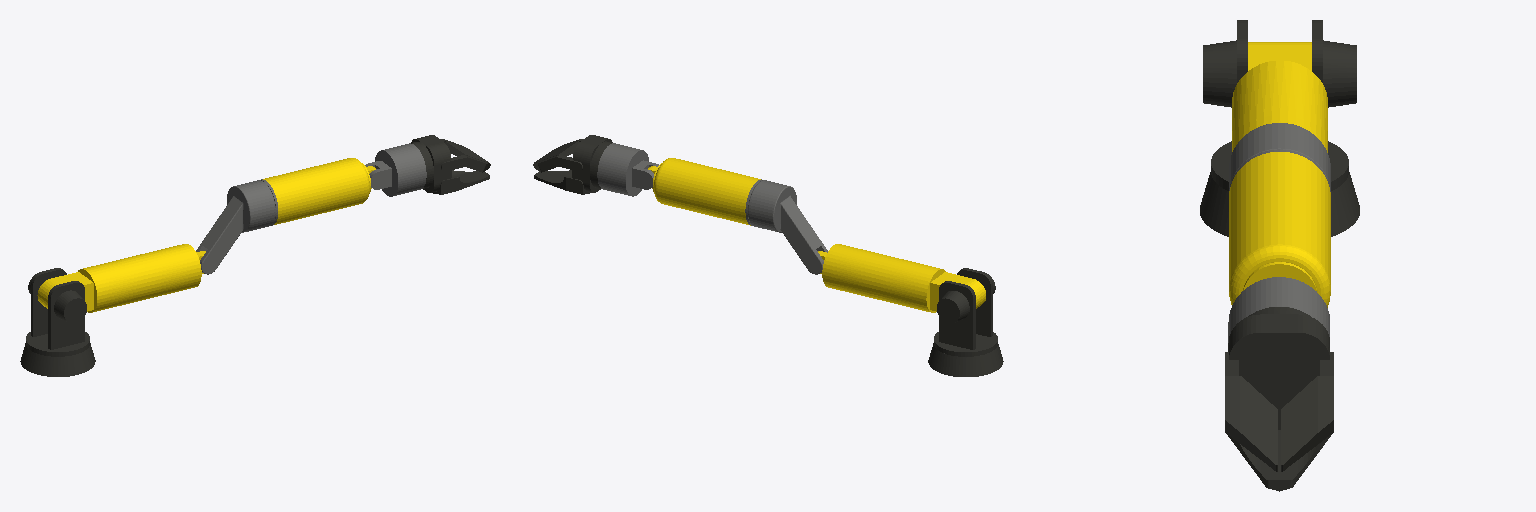
robot.urdf — Spot_Arm_Export:
<?xml version="1.0" ?>
<!-- =================================================================================== -->
<!-- |    This document was autogenerated by xacro from Spot_Arm_Export.xacro          | -->
<!-- |    EDITING THIS FILE BY HAND IS NOT RECOMMENDED                                 | -->
<!-- =================================================================================== -->
<robot name="Spot_Arm_Export" xmlns:xacro="http://www.ros.org/wiki/xacro">
  <material name="yellow">
    <color rgba="0.992 0.8705 0.08235 1.000"/>
  </material>
  <material name="black">
    <color rgba="0.254 0.254 0.235 1.000"/>
  </material>
  <material name="silver">
    <color rgba="0.4627 0.4627 0.4549 1.000"/>
  </material>
  <transmission name="Rev7_tran">
    <type>transmission_interface/SimpleTransmission</type>
    <joint name="Rev7">
      <hardwareInterface>hardware_interface/EffortJointInterface</hardwareInterface>
    </joint>
    <actuator name="Rev7_actr">
      <hardwareInterface>hardware_interface/EffortJointInterface</hardwareInterface>
      <mechanicalReduction>1</mechanicalReduction>
    </actuator>
  </transmission>
  <transmission name="Rev8_tran">
    <type>transmission_interface/SimpleTransmission</type>
    <joint name="Rev8">
      <hardwareInterface>hardware_interface/EffortJointInterface</hardwareInterface>
    </joint>
    <actuator name="Rev8_actr">
      <hardwareInterface>hardware_interface/EffortJointInterface</hardwareInterface>
      <mechanicalReduction>1</mechanicalReduction>
    </actuator>
  </transmission>
  <transmission name="Rev9_tran">
    <type>transmission_interface/SimpleTransmission</type>
    <joint name="Rev9">
      <hardwareInterface>hardware_interface/EffortJointInterface</hardwareInterface>
    </joint>
    <actuator name="Rev9_actr">
      <hardwareInterface>hardware_interface/EffortJointInterface</hardwareInterface>
      <mechanicalReduction>1</mechanicalReduction>
    </actuator>
  </transmission>
  <transmission name="Rev10_tran">
    <type>transmission_interface/SimpleTransmission</type>
    <joint name="Rev10">
      <hardwareInterface>hardware_interface/EffortJointInterface</hardwareInterface>
    </joint>
    <actuator name="Rev10_actr">
      <hardwareInterface>hardware_interface/EffortJointInterface</hardwareInterface>
      <mechanicalReduction>1</mechanicalReduction>
    </actuator>
  </transmission>
  <transmission name="Slider11_tran">
    <type>transmission_interface/SimpleTransmission</type>
    <joint name="Slider11">
      <hardwareInterface>hardware_interface/EffortJointInterface</hardwareInterface>
    </joint>
    <actuator name="Slider11_actr">
      <hardwareInterface>hardware_interface/EffortJointInterface</hardwareInterface>
      <mechanicalReduction>1</mechanicalReduction>
    </actuator>
  </transmission>
  <transmission name="Rev14_tran">
    <type>transmission_interface/SimpleTransmission</type>
    <joint name="Rev14">
      <hardwareInterface>hardware_interface/EffortJointInterface</hardwareInterface>
    </joint>
    <actuator name="Rev14_actr">
      <hardwareInterface>hardware_interface/EffortJointInterface</hardwareInterface>
      <mechanicalReduction>1</mechanicalReduction>
    </actuator>
  </transmission>
  <transmission name="Rev15_tran">
    <type>transmission_interface/SimpleTransmission</type>
    <joint name="Rev15">
      <hardwareInterface>hardware_interface/EffortJointInterface</hardwareInterface>
    </joint>
    <actuator name="Rev15_actr">
      <hardwareInterface>hardware_interface/EffortJointInterface</hardwareInterface>
      <mechanicalReduction>1</mechanicalReduction>
    </actuator>
  </transmission>
  <gazebo>
    <plugin filename="libgazebo_ros_control.so" name="control"/>
  </gazebo>
  <gazebo reference="base_link">
    <material>Gazebo/Silver</material>
    <mu1>0.2</mu1>
    <mu2>0.2</mu2>
    <selfCollide>true</selfCollide>
    <gravity>true</gravity>
  </gazebo>
  <gazebo reference="link1_1">
    <material>Gazebo/Silver</material>
    <mu1>0.2</mu1>
    <mu2>0.2</mu2>
    <selfCollide>true</selfCollide>
  </gazebo>
  <gazebo reference="link2__1">
    <material>Gazebo/Silver</material>
    <mu1>0.2</mu1>
    <mu2>0.2</mu2>
    <selfCollide>true</selfCollide>
  </gazebo>
  <gazebo reference="link3_1">
    <material>Gazebo/Silver</material>
    <mu1>0.2</mu1>
    <mu2>0.2</mu2>
    <selfCollide>true</selfCollide>
  </gazebo>
  <gazebo reference="link4_1">
    <material>Gazebo/Silver</material>
    <mu1>0.2</mu1>
    <mu2>0.2</mu2>
    <selfCollide>true</selfCollide>
  </gazebo>
  <gazebo reference="link5_1">
    <material>Gazebo/Silver</material>
    <mu1>0.2</mu1>
    <mu2>0.2</mu2>
    <selfCollide>true</selfCollide>
  </gazebo>
  <gazebo reference="link6_1">
    <material>Gazebo/Silver</material>
    <mu1>0.2</mu1>
    <mu2>0.2</mu2>
    <selfCollide>true</selfCollide>
  </gazebo>
  <gazebo reference="link7_1">
    <material>Gazebo/Silver</material>
    <mu1>0.2</mu1>
    <mu2>0.2</mu2>
    <selfCollide>true</selfCollide>
  </gazebo>
  <link name="base_link">
    <inertial>
      <origin rpy="0 0 0" xyz="1.4893738513430887e-17 1.4893738513430887e-17 0.018976000606365378"/>
      <mass value="1.6720303943376955"/>
      <inertia ixx="0.002269" ixy="0.0" ixz="-0.0" iyy="0.002269" iyz="-0.0" izz="0.004095"/>
    </inertial>
    <visual>
      <origin rpy="0 0 0" xyz="0 0 0"/>
      <geometry>
        <mesh filename="package://Spot_Arm_Export_description/meshes/base_link.stl" scale="0.001 0.001 0.001"/>
      </geometry>
      <material name="black"/>
    </visual>
    <collision>
      <origin rpy="0 0 0" xyz="0 0 0"/>
      <geometry>
        <mesh filename="package://Spot_Arm_Export_description/meshes/base_link.stl" scale="0.001 0.001 0.001"/>
      </geometry>
    </collision>
  </link>
  <link name="link1_1">
    <inertial>
      <origin rpy="0 0 0" xyz="-0.00010166140320390767 -0.002439812837878551 0.06408235101807577"/>
      <mass value="1.323325671789871"/>
      <inertia ixx="0.005142" ixy="-0.0" ixz="5e-06" iyy="0.003539" iyz="0.000116" izz="0.003127"/>
    </inertial>
    <visual>
      <origin rpy="0 0 0" xyz="-0.0 -0.0 -0.04"/>
      <geometry>
        <mesh filename="package://Spot_Arm_Export_description/meshes/link1_1.stl" scale="0.001 0.001 0.001"/>
      </geometry>
      <material name="black"/>
    </visual>
    <collision>
      <origin rpy="0 0 0" xyz="-0.0 -0.0 -0.04"/>
      <geometry>
        <mesh filename="package://Spot_Arm_Export_description/meshes/link1_1.stl" scale="0.001 0.001 0.001"/>
      </geometry>
    </collision>
  </link>
  <link name="link2__1">
    <inertial>
      <origin rpy="0 0 0" xyz="0.16558407457674612 -0.03000000000000001 2.9449114878343785e-06"/>
      <mass value="4.994414599306621"/>
      <inertia ixx="0.004693" ixy="-0.0" ixz="-2e-06" iyy="0.041317" iyz="-0.0" izz="0.041288"/>
    </inertial>
    <visual>
      <origin rpy="0 0 0" xyz="-0.0 -0.03 -0.14"/>
      <geometry>
        <mesh filename="package://Spot_Arm_Export_description/meshes/link2__1.stl" scale="0.001 0.001 0.001"/>
      </geometry>
      <material name="yellow"/>
    </visual>
    <collision>
      <origin rpy="0 0 0" xyz="-0.0 -0.03 -0.14"/>
      <geometry>
        <mesh filename="package://Spot_Arm_Export_description/meshes/link2__1.stl" scale="0.001 0.001 0.001"/>
      </geometry>
    </collision>
  </link>
  <link name="link3_1">
    <inertial>
      <origin rpy="0 0 0" xyz="0.07808838335862711 -0.010000000424296312 0.07857423931894233"/>
      <mass value="1.3431854176170634"/>
      <inertia ixx="0.002456" ixy="-0.0" ixz="-0.001302" iyy="0.003583" iyz="-0.0" izz="0.002394"/>
    </inertial>
    <visual>
      <origin rpy="0 0 0" xyz="-0.3385 -0.01 -0.140137"/>
      <geometry>
        <mesh filename="package://Spot_Arm_Export_description/meshes/link3_1.stl" scale="0.001 0.001 0.001"/>
      </geometry>
      <material name="silver"/>
    </visual>
    <collision>
      <origin rpy="0 0 0" xyz="-0.3385 -0.01 -0.140137"/>
      <geometry>
        <mesh filename="package://Spot_Arm_Export_description/meshes/link3_1.stl" scale="0.001 0.001 0.001"/>
      </geometry>
    </collision>
  </link>
  <link name="link4_1">
    <inertial>
      <origin rpy="0 0 0" xyz="0.09116530618238194 -4.470348317907382e-10 1.6517662931869737e-08"/>
      <mass value="1.9937738359972355"/>
      <inertia ixx="0.001271" ixy="-0.0" ixz="-0.0" iyy="0.006352" iyz="0.0" izz="0.006352"/>
    </inertial>
    <visual>
      <origin rpy="0 0 0" xyz="-0.4455 0.0 -0.237477"/>
      <geometry>
        <mesh filename="package://Spot_Arm_Export_description/meshes/link4_1.stl" scale="0.001 0.001 0.001"/>
      </geometry>
      <material name="silver"/>
    </visual>
    <collision>
      <origin rpy="0 0 0" xyz="-0.4455 0.0 -0.237477"/>
      <geometry>
        <mesh filename="package://Spot_Arm_Export_description/meshes/link4_1.stl" scale="0.001 0.001 0.001"/>
      </geometry>
    </collision>
  </link>
  <link name="link5_1">
    <inertial>
      <origin rpy="0 0 0" xyz="0.11485690332465609 -4.470348257432113e-10 1.6517662876358585e-08"/>
      <mass value="2.025824700134457"/>
      <inertia ixx="0.003336" ixy="-0.0" ixz="-0.0" iyy="0.010798" iyz="0.0" izz="0.010792"/>
    </inertial>
    <visual>
      <origin rpy="0 0 0" xyz="-0.4805 0.0 -0.237477"/>
      <geometry>
        <mesh filename="package://Spot_Arm_Export_description/meshes/link5_1.stl" scale="0.001 0.001 0.001"/>
      </geometry>
      <material name="yellow"/>
    </visual>
    <collision>
      <origin rpy="0 0 0" xyz="-0.4805 0.0 -0.237477"/>
      <geometry>
        <mesh filename="package://Spot_Arm_Export_description/meshes/link5_1.stl" scale="0.001 0.001 0.001"/>
      </geometry>
    </collision>
  </link>
  <link name="link6_1">
    <inertial>
      <origin rpy="0 0 0" xyz="0.05389380319242287 -0.010500000447034839 1.6516571749169984e-08"/>
      <mass value="1.0011757192825106"/>
      <inertia ixx="0.001219" ixy="0.0" ixz="-0.0" iyy="0.001201" iyz="-0.0" izz="0.001214"/>
    </inertial>
    <visual>
      <origin rpy="0 0 0" xyz="-0.7218 -0.01 -0.237477"/>
      <geometry>
        <mesh filename="package://Spot_Arm_Export_description/meshes/link6_1.stl" scale="0.001 0.001 0.001"/>
      </geometry>
      <material name="silver"/>
    </visual>
    <collision>
      <origin rpy="0 0 0" xyz="-0.7218 -0.01 -0.237477"/>
      <geometry>
        <mesh filename="package://Spot_Arm_Export_description/meshes/link6_1.stl" scale="0.001 0.001 0.001"/>
      </geometry>
    </collision>
  </link>
  <link name="link7_1">
    <inertial>
      <origin rpy="0 0 0" xyz="0.056163464375598826 9.814067565384844e-06 -0.010275722003246418"/>
      <mass value="1.6734994307062705"/>
      <inertia ixx="0.002751" ixy="-1e-06" ixz="0.000546" iyy="0.004068" iyz="0.0" izz="0.003961"/>
    </inertial>
    <visual>
      <origin rpy="0 0 0" xyz="-0.8218 0.0005 -0.237477"/>
      <geometry>
        <mesh filename="package://Spot_Arm_Export_description/meshes/link7_1.stl" scale="0.001 0.001 0.001"/>
      </geometry>
      <material name="black"/>
    </visual>
    <collision>
      <origin rpy="0 0 0" xyz="-0.8218 0.0005 -0.237477"/>
      <geometry>
        <mesh filename="package://Spot_Arm_Export_description/meshes/link7_1.stl" scale="0.001 0.001 0.001"/>
      </geometry>
    </collision>
  </link>
  <joint name="Rev7" type="revolute">
    <origin rpy="0 0 0" xyz="0.0 0.0 0.04"/>
    <parent link="base_link"/>
    <child link="link1_1"/>
    <axis xyz="0.0 0.0 1.0"/>
    <limit effort="500.0" lower="-2.61799" upper="3.14159" velocity="0.5"/>
  </joint>
  <joint name="Rev8" type="revolute">
    <origin rpy="0 0 0" xyz="0.0 0.03 0.1"/>
    <parent link="link1_1"/>
    <child link="link2__1"/>
    <axis xyz="0.0 -1.0 0.0"/>
    <limit effort="500.0" lower="-0.523599" upper="3.14159" velocity="0.5"/>
  </joint>
  <joint name="Rev9" type="revolute">
    <origin rpy="0 0 0" xyz="0.3385 -0.02 0.000137"/>
    <parent link="link2__1"/>
    <child link="link3_1"/>
    <axis xyz="0.0 1.0 0.0"/>
    <limit effort="500.0" lower="0" upper="2.61799" velocity="0.5"/>
  </joint>
  <joint name="Rev10" type="revolute">
    <origin rpy="0 0 0" xyz="0.107 -0.01 0.09734"/>
    <parent link="link3_1"/>
    <child link="link4_1"/>
    <limit effort="500.0" lower="-4.3633" upper="1.22173" velocity="0.5"/>
  </joint>
  <joint name="Slider11" type="prismatic">
    <origin rpy="0 0 0" xyz="0.035 0.0 0.0"/>
    <parent link="link4_1"/>
    <child link="link5_1"/>
    <axis xyz="1.0 -0.0 0.0"/>
    <limit effort="100" lower="0.0" upper="0.075" velocity="100"/>
  </joint>
  <joint name="Rev14" type="revolute">
    <origin rpy="0 0 0" xyz="0.2413 0.01 0.0"/>
    <parent link="link5_1"/>
    <child link="link6_1"/>
    <axis xyz="-0.0 1.0 0.0"/>
    <limit effort="500.0" lower="-1.047198" upper="1.047198" velocity="0.5"/>
  </joint>
  <joint name="Rev15" type="revolute">
    <origin rpy="0 0 0" xyz="0.1 -0.0105 0.0"/>
    <parent link="link6_1"/>
    <child link="link7_1"/>
    <axis xyz="-1.0 -0.0 -0.0"/>
    <limit effort="500.0" lower="-4.45059" upper="1.30899" velocity="0.5"/>
  </joint>
</robot>

--- What the picture shows (computed from the rendered views, not written in the file) ---
3 views of the same robot in one strip: view 1: azimuth 30°, elevation 25°; view 2: azimuth 150°, elevation 25°; view 3: azimuth 270°, elevation 25° (orthographic).
Robot: Spot_Arm_Export — 8 links, 7 joints (6 revolute, 1 prismatic); root link base_link; default pose: every joint at zero.
Links seen in each view (by area): view 1: link2__1, link5_1, link1_1, link3_1, link7_1, link6_1, base_link; view 2: link2__1, link5_1, link1_1, link3_1, link7_1, link6_1, base_link; view 3: link7_1, link5_1, link2__1, link1_1, link6_1, link3_1, base_link.
Link boxes in pixels (left/top/right/bottom): link2__1: left=37, top=244, right=205, bottom=312; link5_1: left=263, top=158, right=375, bottom=224; link1_1: left=26, top=268, right=89, bottom=356; link3_1: left=196, top=180, right=275, bottom=274; link7_1: left=411, top=135, right=490, bottom=194; link6_1: left=365, top=143, right=426, bottom=196; base_link: left=20, top=343, right=95, bottom=376; link2__1: left=818, top=244, right=985, bottom=312; link5_1: left=648, top=158, right=760, bottom=225; link1_1: left=934, top=268, right=997, bottom=356; link3_1: left=748, top=180, right=827, bottom=274; link7_1: left=533, top=135, right=612, bottom=194; link6_1: left=597, top=143, right=658, bottom=196; base_link: left=928, top=343, right=1003, bottom=376; link7_1: left=1225, top=307, right=1333, bottom=491; link5_1: left=1229, top=152, right=1330, bottom=307; link2__1: left=1232, top=42, right=1327, bottom=152; link1_1: left=1203, top=20, right=1356, bottom=190; link6_1: left=1228, top=277, right=1329, bottom=342; link3_1: left=1229, top=123, right=1330, bottom=188; base_link: left=1200, top=172, right=1359, bottom=236.
Size in the robot's own frame: 1.07 by 0.1498 by 0.285 metres.
Meshes: 8 distinct files referenced, 8 mesh visuals loaded (8 binary STL).